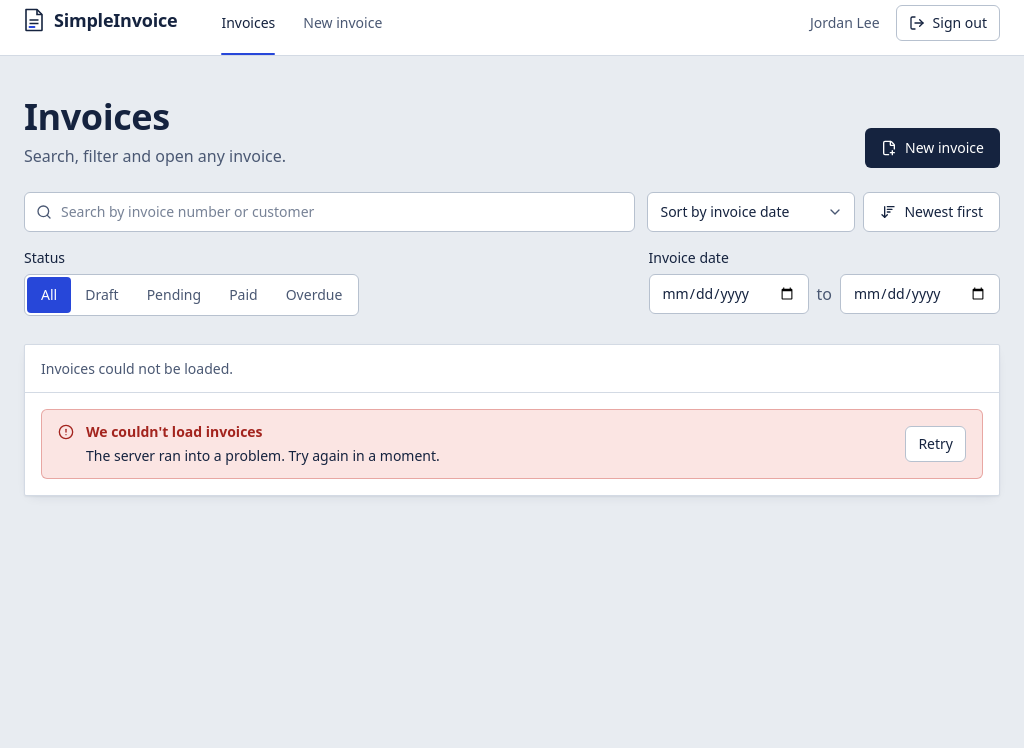
Test: invoice list › shows an error with a retry when the list fails to load
Check: the text "We couldn't load invoices" is shown, box [86,422,263,441]
Check: the text "The server ran into a problem. Try again in a moment." is shown, box [86,446,440,465]
Click the button "Retry" at (936, 444), box [905,426,966,462]
(page scrolled)
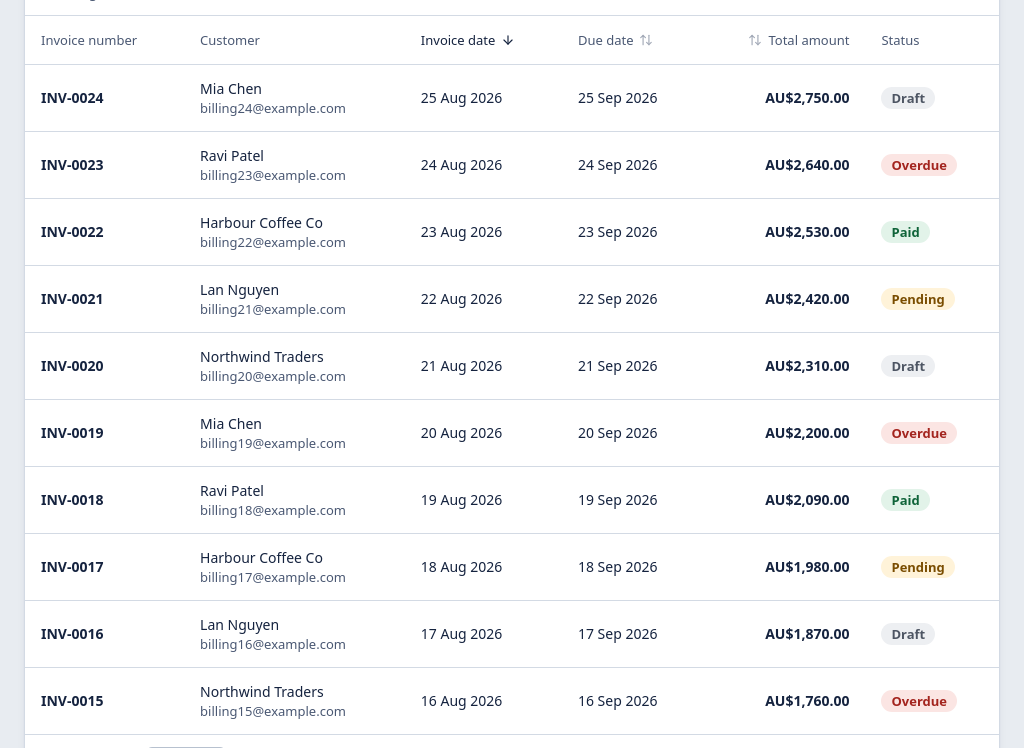
Check: the table named "Invoices, sorted by" is shown
